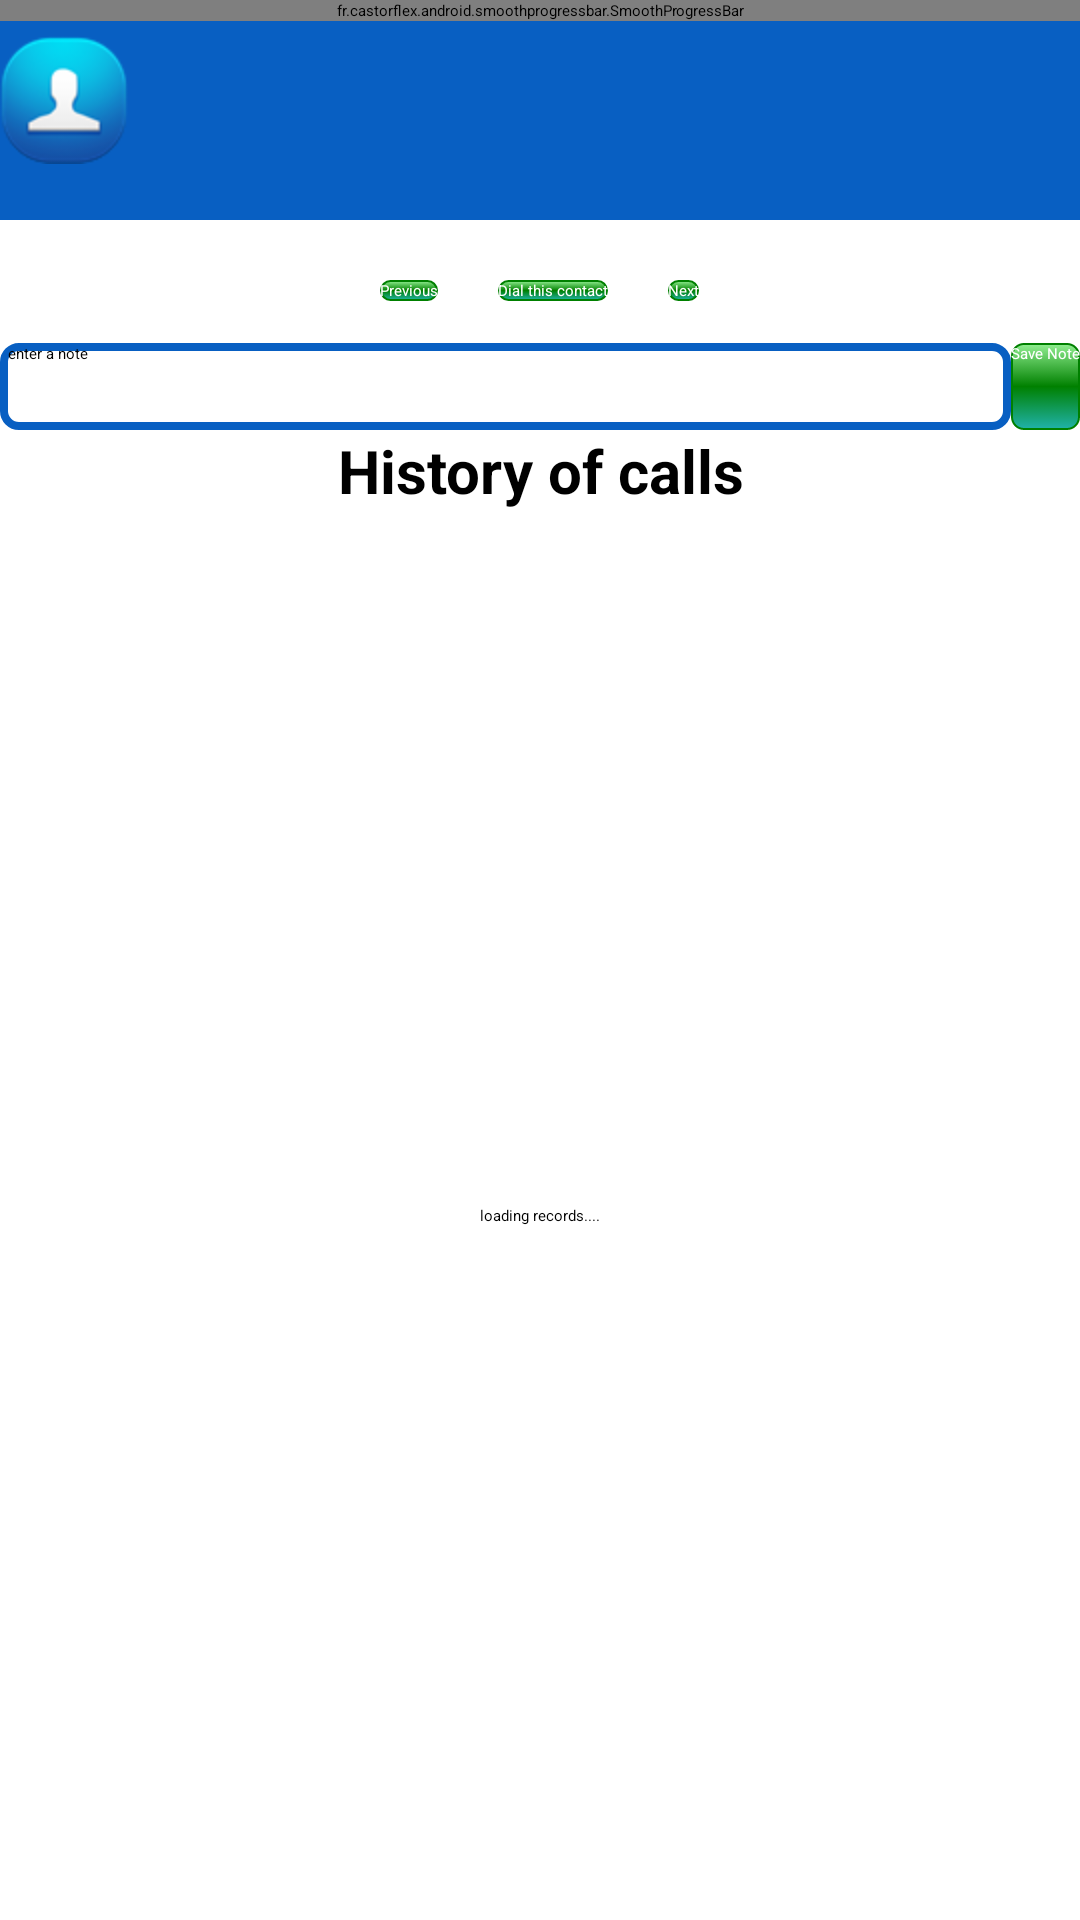

Icon click points for this 1080*1920 phone screenshot, format (x,y):
contacts: (64,100)
